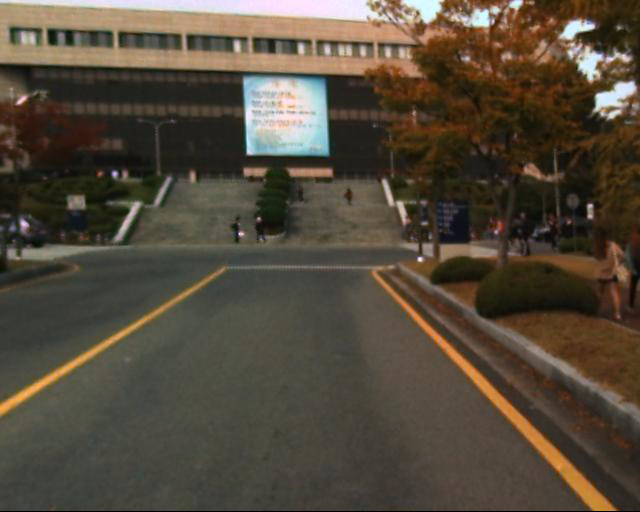person: (492, 202, 562, 272), (590, 227, 622, 319), (229, 214, 249, 256)
